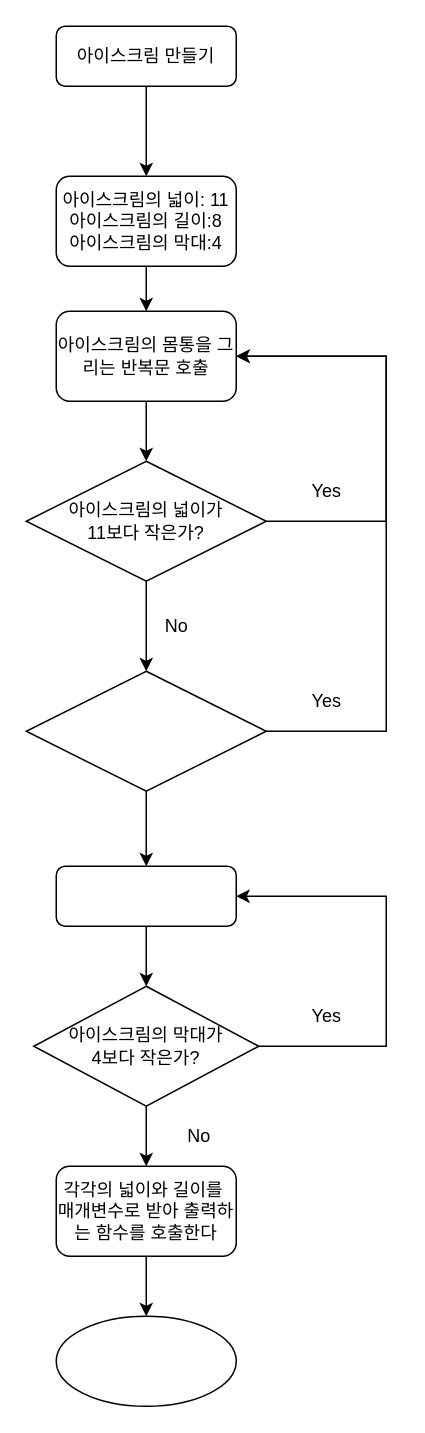
Image size: 425x1433. Some labels were removed from this diagram. The shapes that lost their labels are listed below. From the top down, each one's centre as x and y in pixels, then its label:
At (145,730): "아이스크림의 길이가 8보다 적은가?".
At (145,895): "아이스크림의 막대를 그리는 반복문 호출".
At (145,1360): "종료".
